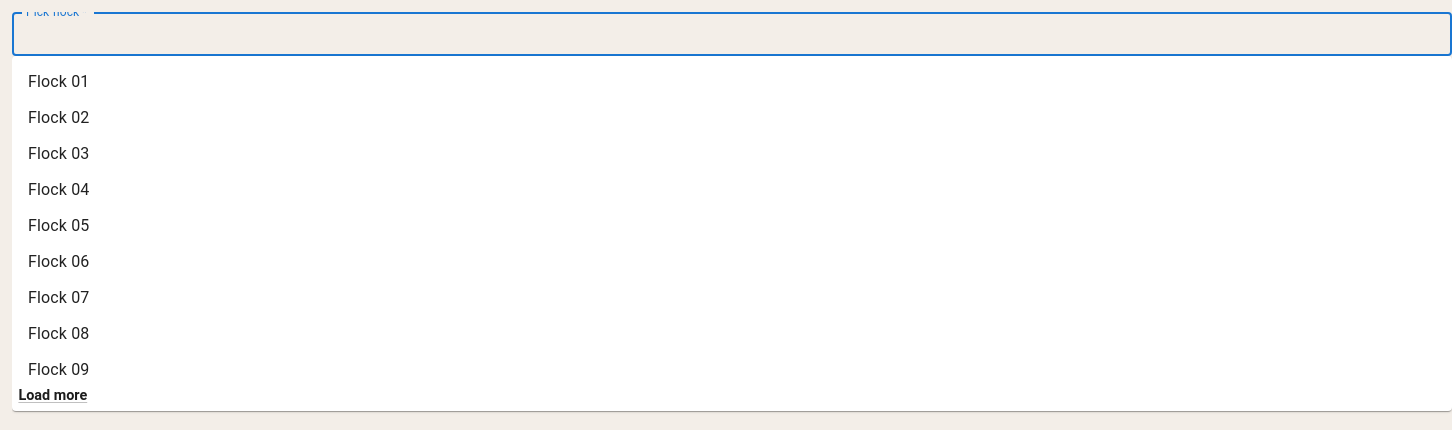
Scenario: replacement paging (#512 FR-007) › search replaces rows from scratch at offset 0, not an extension
Check: the text "Flock 01" is shown, box [28,70,90,94]
Click the button "Load more". click: (53, 396)
box: [12,380,94,411]
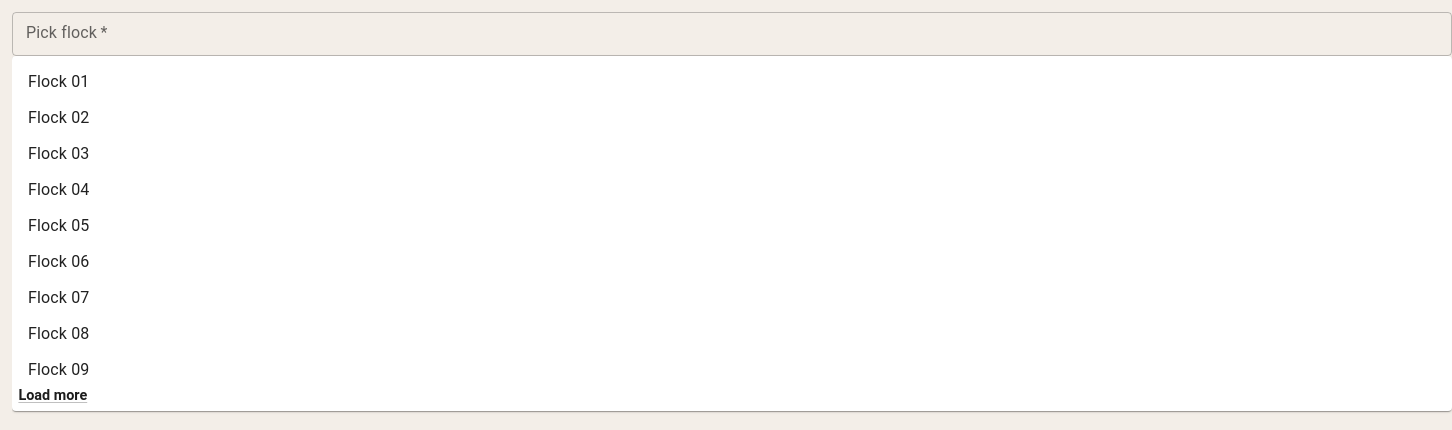
Type "105" into the dropdown. click: (716, 34)
box: [18,20,1413,48]
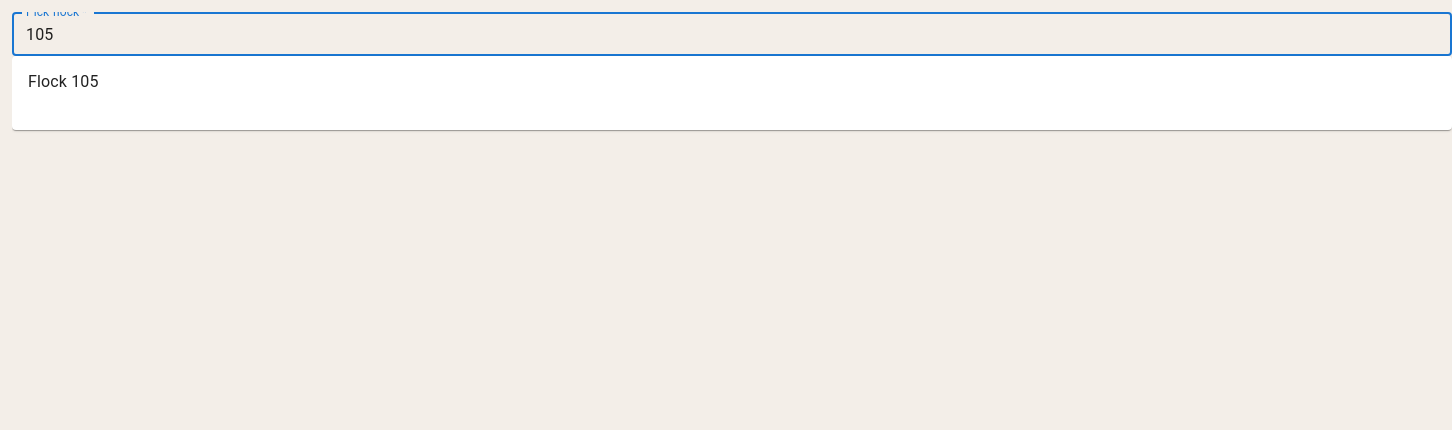
Check: the text "Flock 105" is shown, box [28,70,99,94]
Check: the option "Flock 01" is gone
